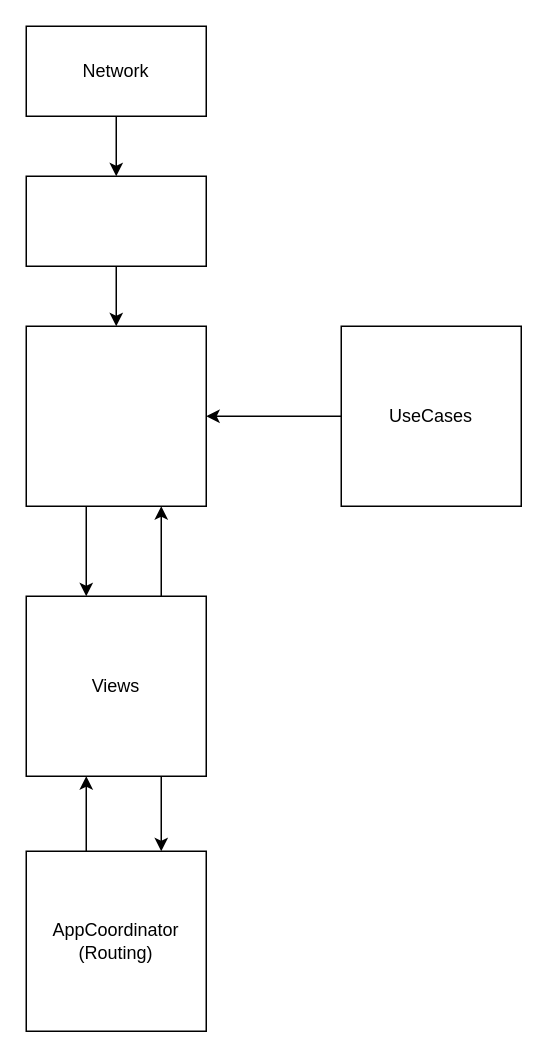
The diagram is 548 pixels wide and 1058 high, and some of its shapes have lost their labels. The centre of each missing label's shape, as x and y in pixels:
"Services" goes at pixel 115 220.
"ViewModels" goes at pixel 115 415.
